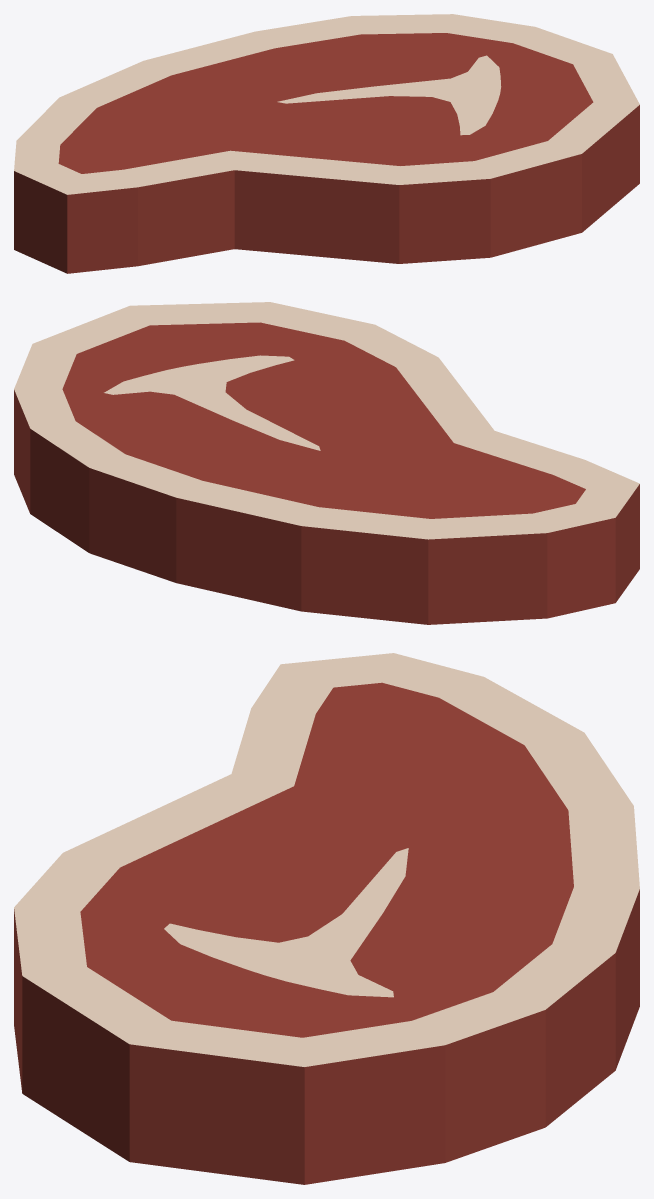
File: fantasy_food_meat.fbx
3 views of the same model, one above another, from view 1: azimuth 30°, elevation 25°; view 2: azimuth 150°, elevation 25°; view 3: azimuth 270°, elevation 25° (orthographic). The views are drawn at different scales.
Visible parts, largest first — view 1: Cylinder.020; view 2: Cylinder.020; view 3: Cylinder.020.
Part boxes in pixels (left/top/right/bottom): Cylinder.020: left=14, top=14, right=639, bottom=273; Cylinder.020: left=14, top=302, right=639, bottom=624; Cylinder.020: left=14, top=653, right=639, bottom=1184.
Bounding box in the file's own units: 37.7 × 5 × 24.08.
